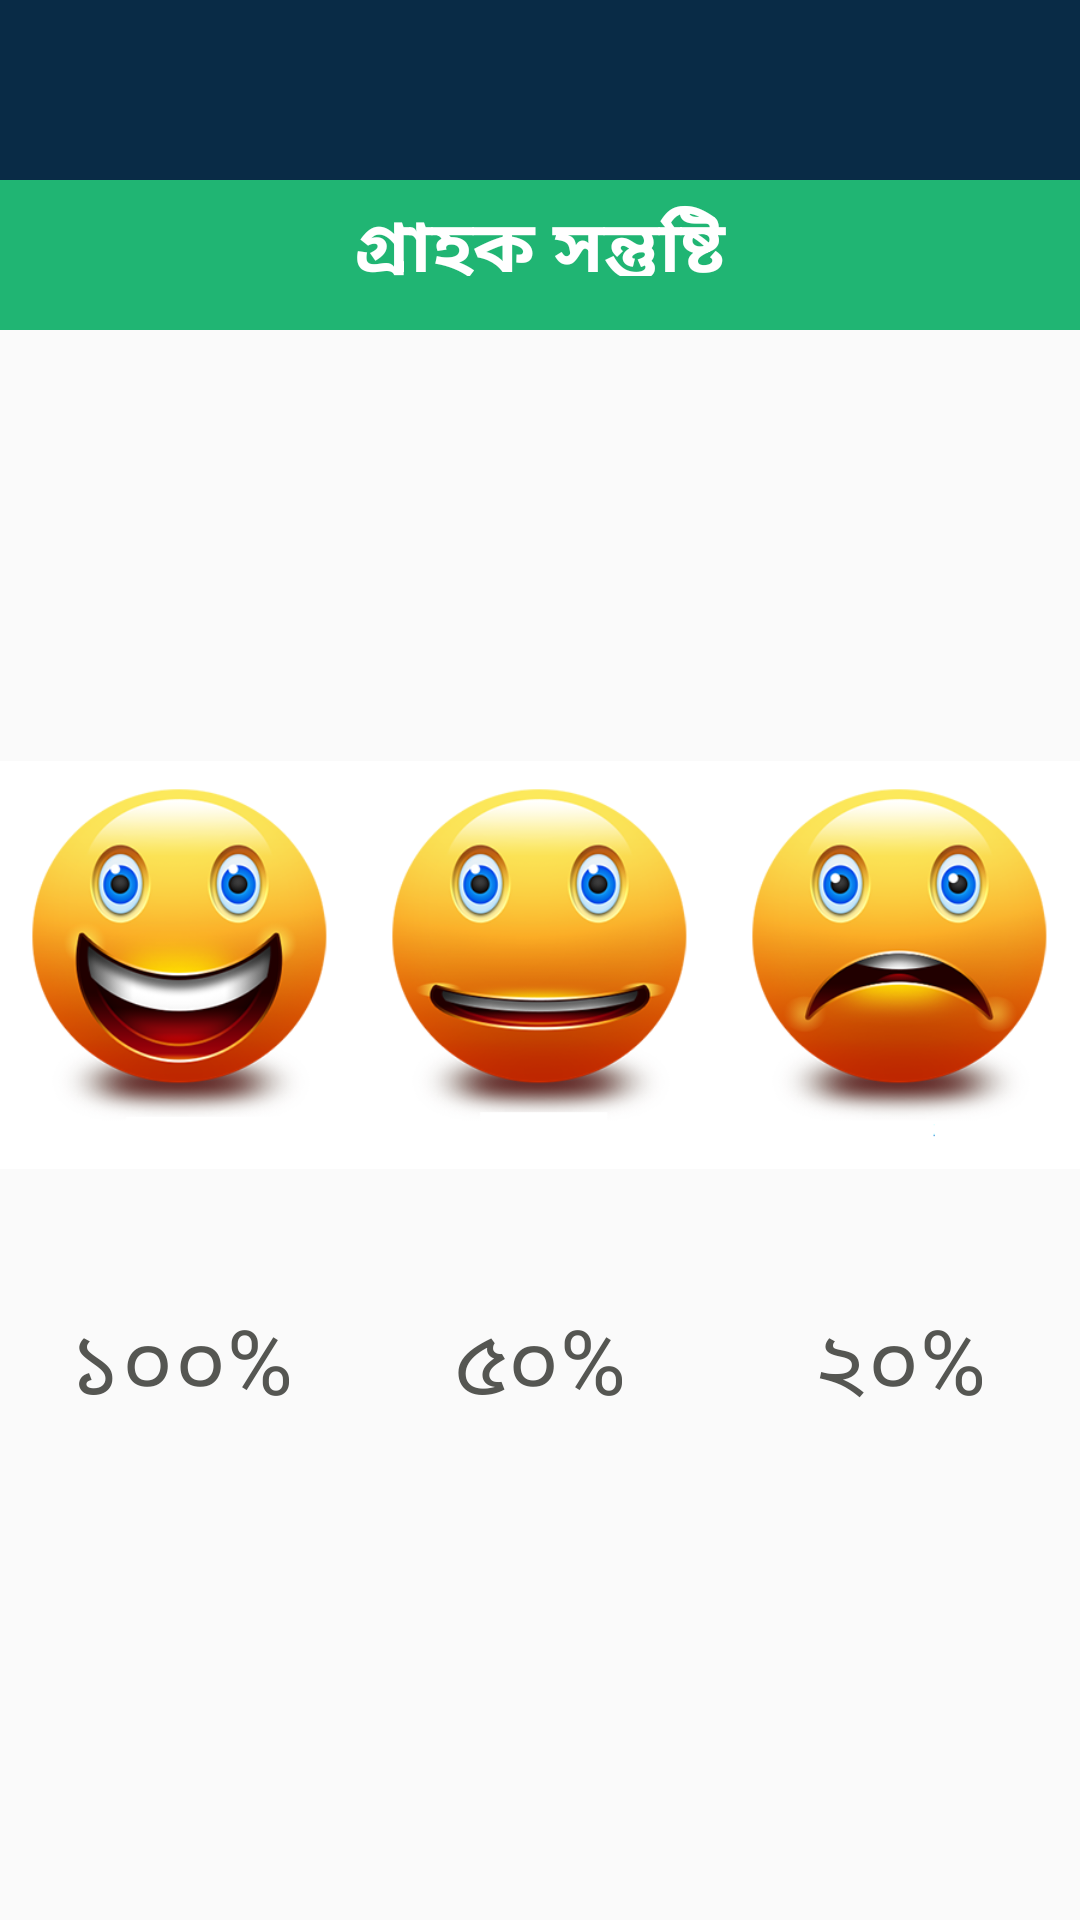

Icon click points for this 1080px×1920px phone screenshot, format point (x, y):
rating: point (179, 949), point (539, 949), point (899, 962)
